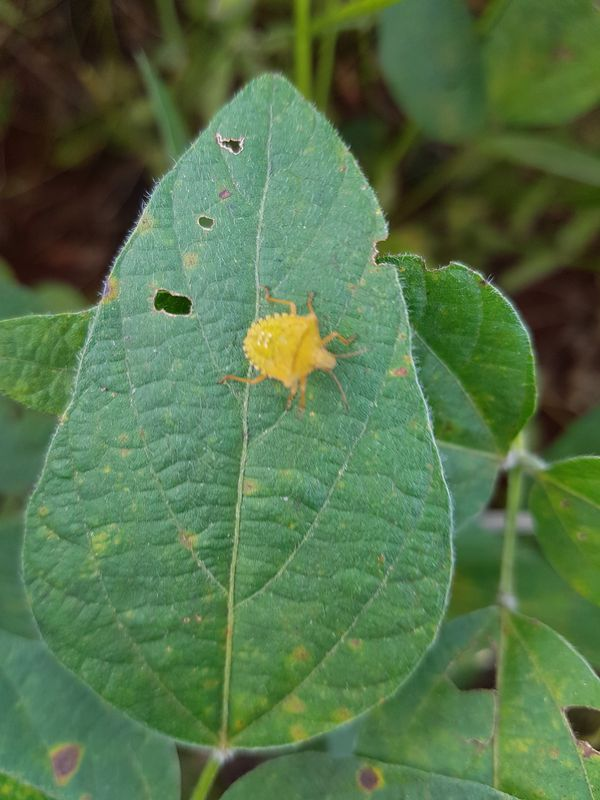Euschistus_heros_ninfa: (208, 274, 375, 423)
